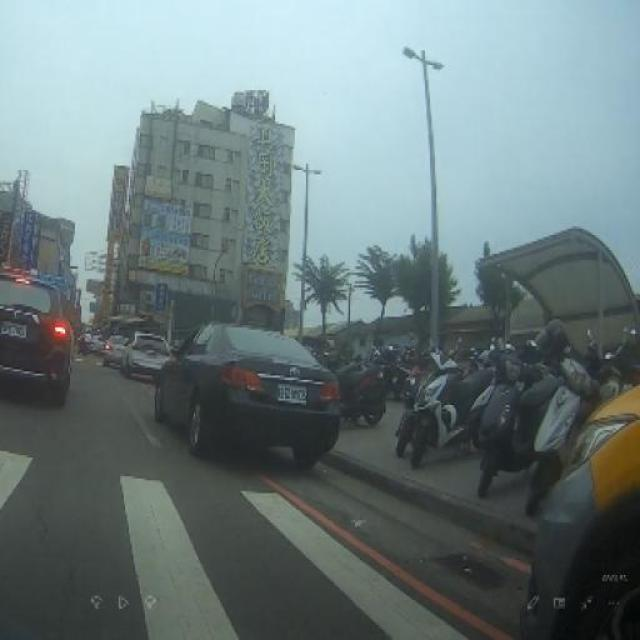Legalparking: (299, 306, 640, 542)
illegalparking: (143, 310, 369, 470)
